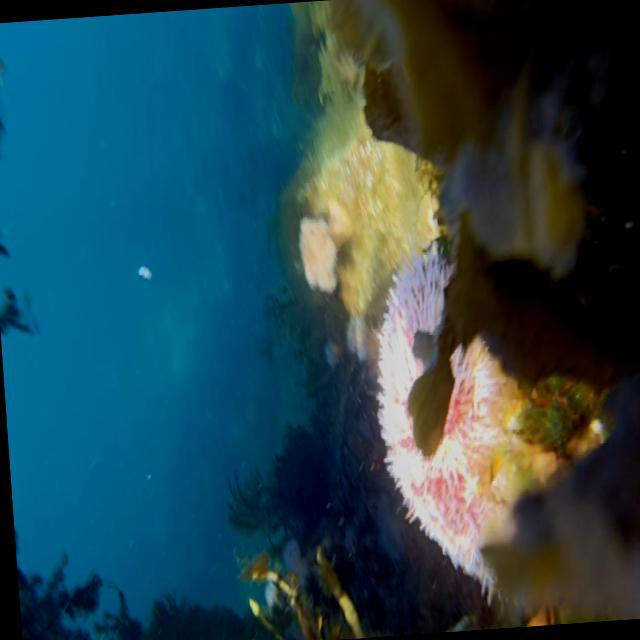Deniz Kestanesi: (366, 233, 528, 612)
